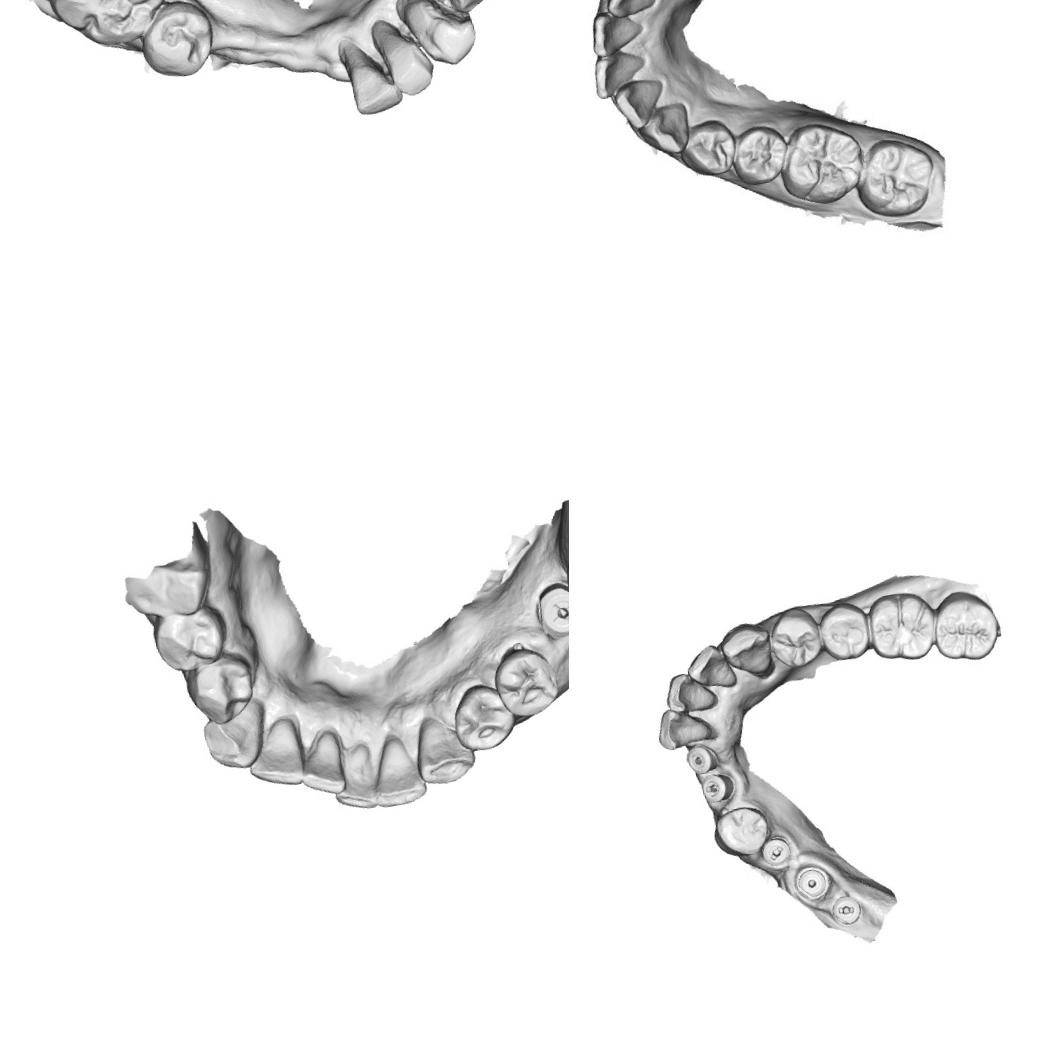canine: (397, 0, 482, 72), (408, 703, 479, 788), (196, 702, 271, 775), (716, 618, 776, 681), (638, 101, 696, 158)
implant: (790, 861, 832, 903)
implant_minus: (824, 890, 866, 931), (682, 741, 719, 776), (758, 833, 793, 870)
implant_plus: (532, 578, 569, 637), (696, 768, 736, 806)
incisor: (241, 718, 314, 796), (334, 42, 404, 120), (362, 729, 428, 811), (374, 20, 439, 102), (292, 726, 351, 800), (328, 744, 382, 816), (588, 46, 651, 102), (613, 76, 670, 136), (586, 5, 647, 59), (681, 639, 739, 694), (652, 702, 714, 752), (660, 666, 720, 717), (599, 0, 662, 23)
molar: (31, 0, 177, 58), (850, 131, 942, 222), (780, 114, 863, 202), (862, 586, 941, 667), (926, 584, 1004, 666)
premolar: (131, 0, 222, 83), (178, 646, 258, 730), (489, 639, 565, 723), (148, 603, 230, 679), (446, 678, 520, 756), (674, 113, 744, 182), (764, 602, 825, 672), (728, 121, 790, 186), (708, 801, 774, 862), (814, 596, 873, 664)
